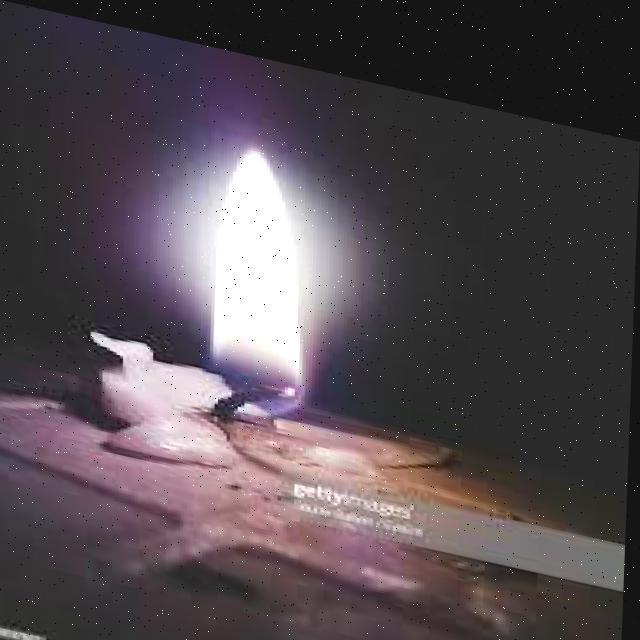Fire: (198, 118, 341, 406)
